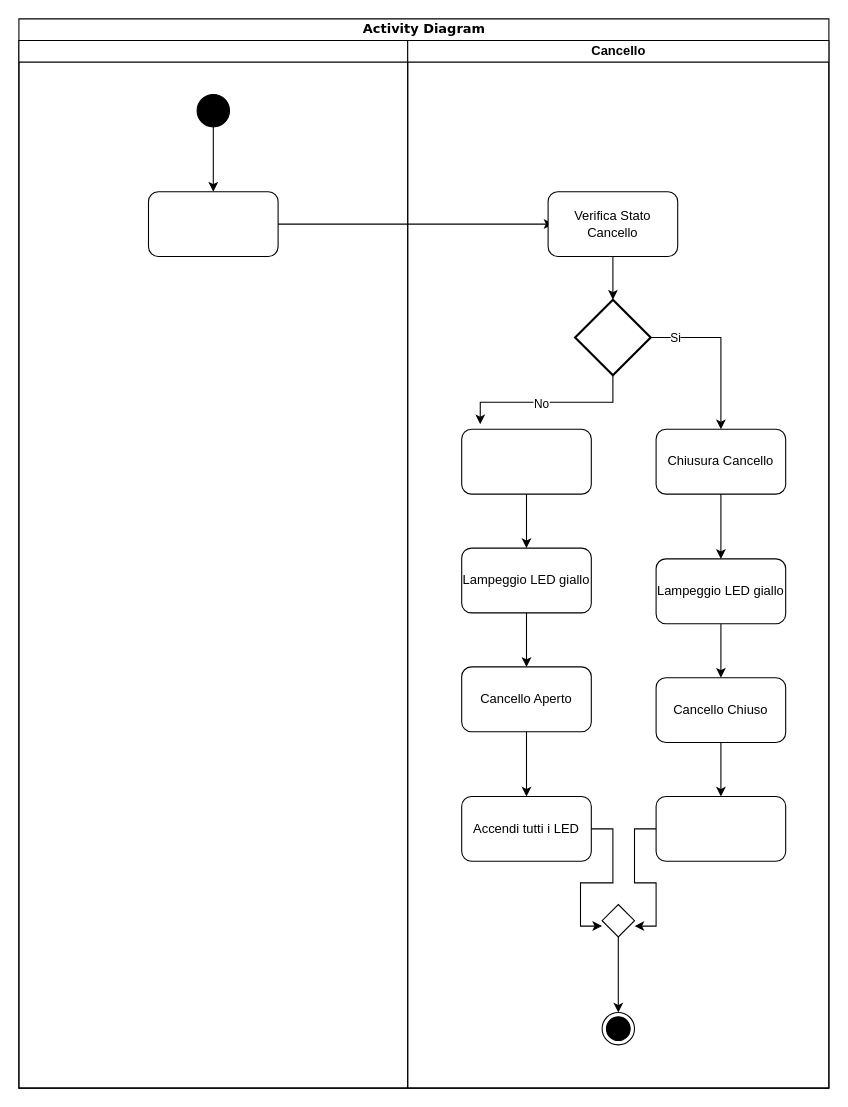
This 848x1107 diagram has some shape labels left out. The shapes that lost their labels are listed below. From the top down, each one's box as (x1, y1, x2, y2) in pixels, then its label:
(147, 191, 278, 256): Pressione Pulsante B1
(573, 298, 651, 376): Cancello Aperto?
(461, 428, 591, 494): Apertura Cancello
(18, 39, 408, 1088): User
(655, 795, 786, 861): Spegni tutti i LED
